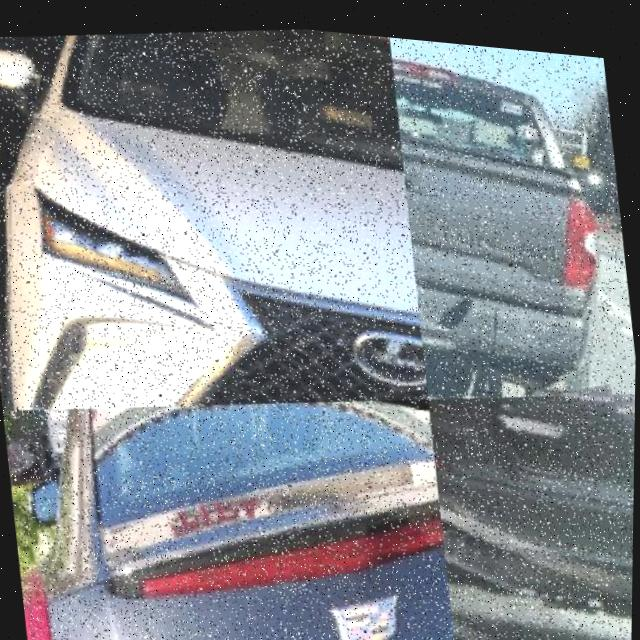LicensePlate: (488, 365, 633, 480)
